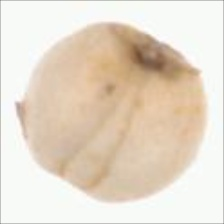L5: (55, 69, 150, 193), (106, 21, 202, 79)
L6: (14, 21, 211, 206)
